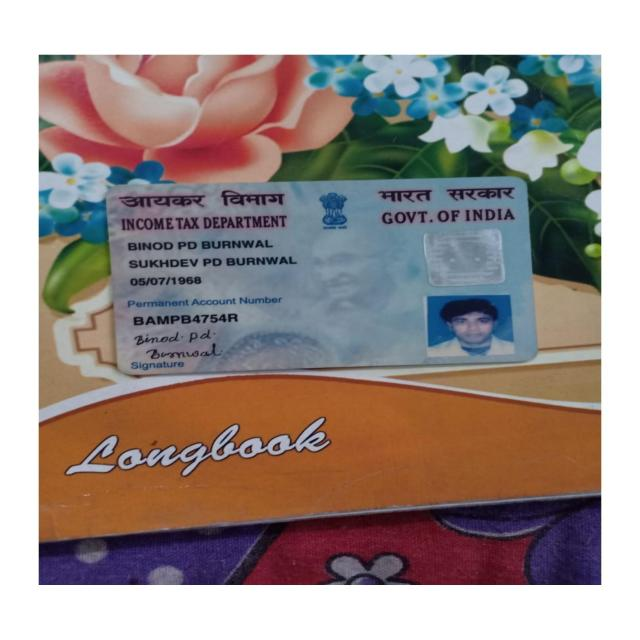pan_card: (110, 176, 533, 374)
